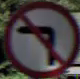Don't turn left: (4, 7, 66, 66)
